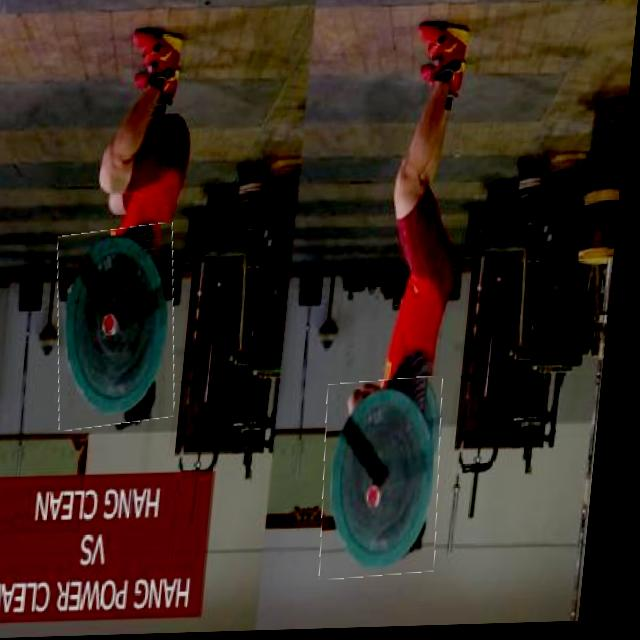barbell: (54, 227, 193, 430), (324, 381, 458, 582)
